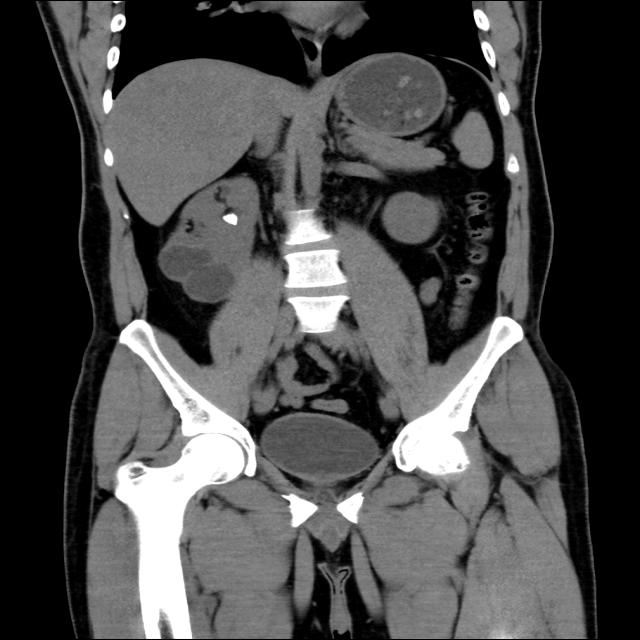kidneystone: (223, 212, 238, 224)
